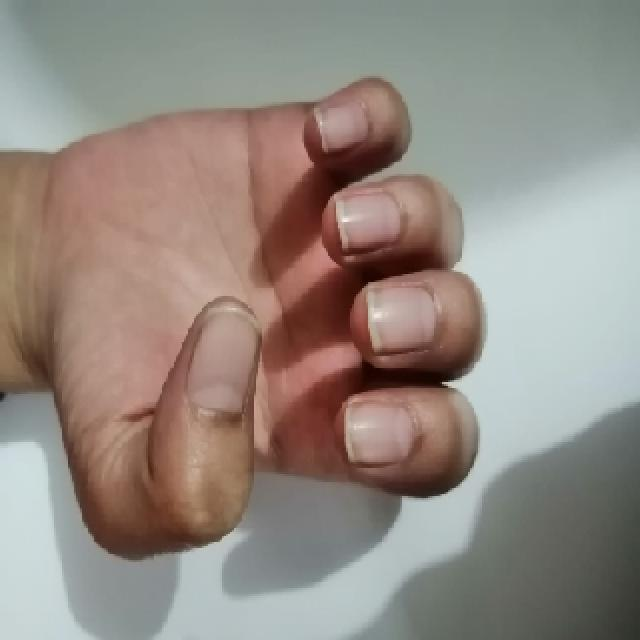Nail: (188, 303, 260, 414), (366, 288, 436, 354), (344, 400, 415, 462), (336, 192, 401, 251), (314, 101, 369, 154)
